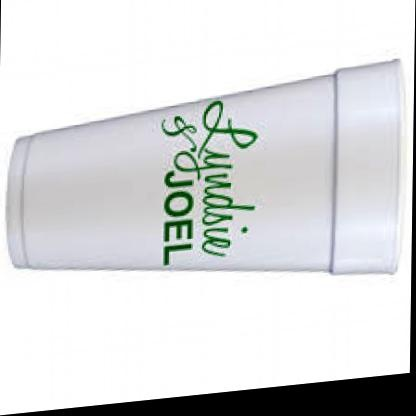trash: (6, 60, 399, 272)
